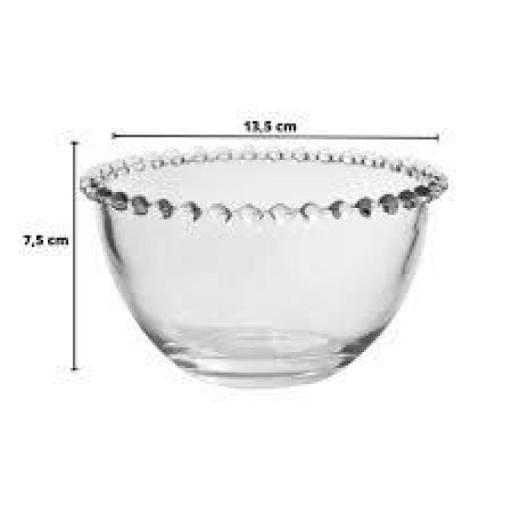glass: (74, 140, 456, 386)
